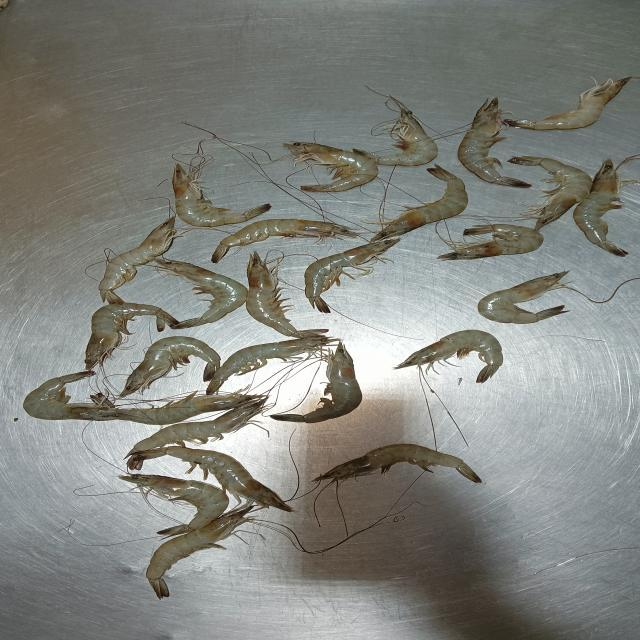shrimp: (147, 503, 254, 597), (132, 447, 290, 510), (126, 399, 266, 458), (207, 334, 330, 393), (271, 342, 362, 421), (502, 77, 632, 130), (304, 236, 395, 311), (100, 216, 177, 304), (247, 253, 326, 338), (374, 166, 467, 238), (120, 474, 227, 535), (458, 97, 530, 187), (314, 444, 480, 483), (174, 161, 271, 227), (153, 259, 247, 327), (212, 219, 359, 262), (84, 303, 178, 370), (121, 336, 220, 396), (510, 157, 591, 229), (396, 330, 502, 382), (97, 394, 263, 425), (574, 159, 627, 255), (368, 100, 438, 166), (284, 142, 378, 191), (479, 271, 567, 323), (24, 372, 118, 419), (437, 224, 543, 259)
